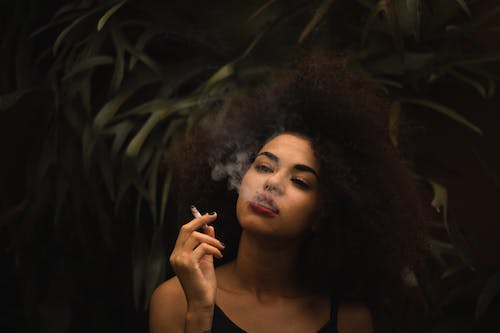cigarette: (189, 204, 210, 230)
